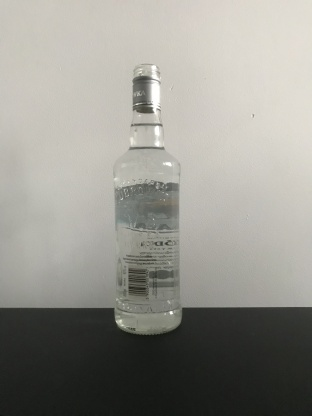nakretka: (130, 62, 162, 114)
